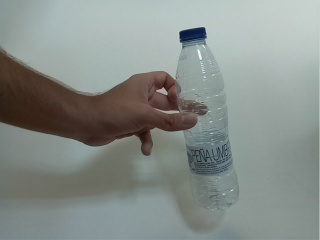botella plastico: (174, 25, 242, 213)
